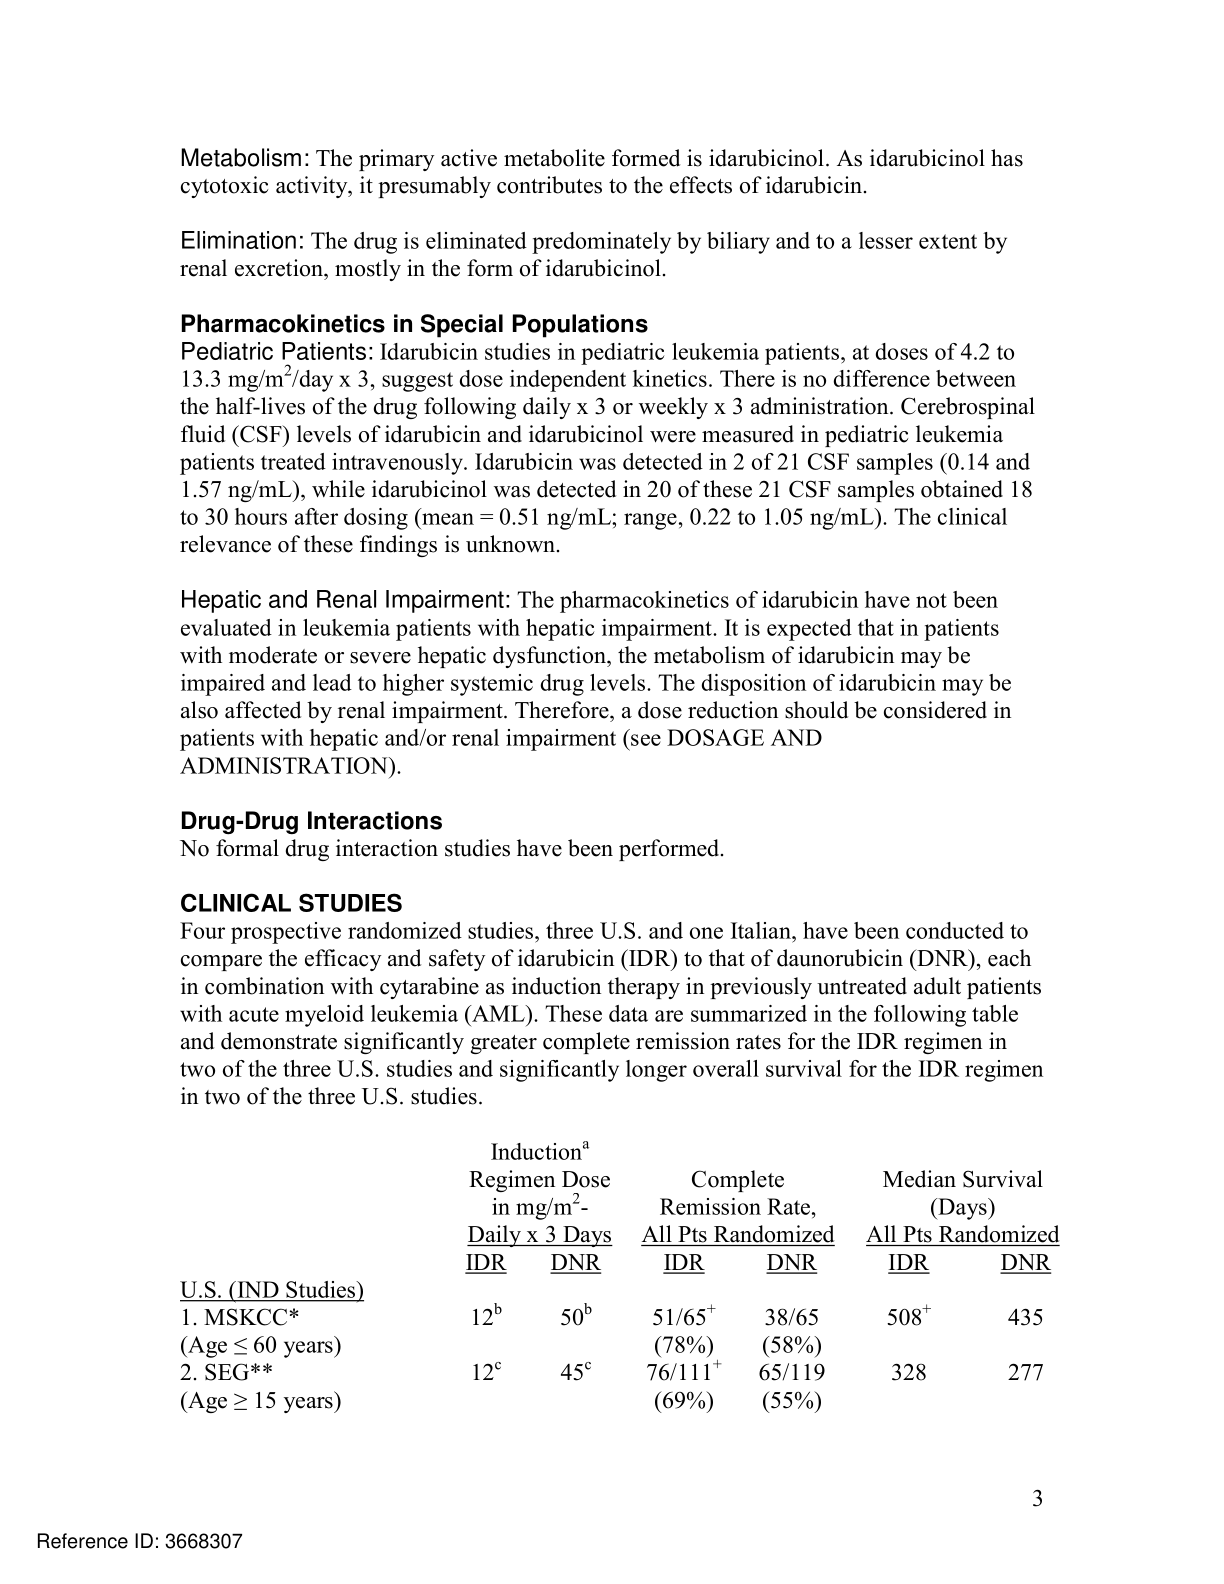nolines: (171, 1137, 1067, 1419)
